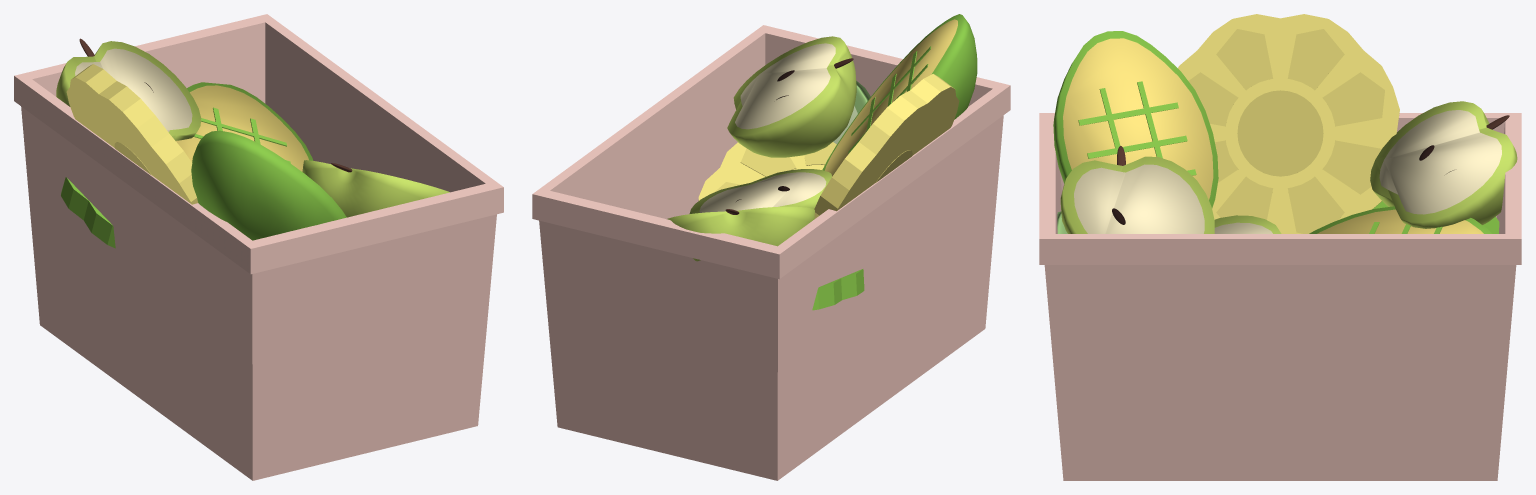
Rendered from fruitbox3.fbx.
The picture shows the model from 3 angles, left to right: view 1: azimuth 30°, elevation 25°; view 2: azimuth 150°, elevation 25°; view 3: azimuth 270°, elevation 25°; orthographic projection. The views are drawn at different scales.
Parts seen in each view (by area): view 1: Cube, Cube.001, Sphere.032, Cylinder.002, Sphere.109, Sphere.002, Sphere.007, Sphere.004, Cylinder.014, Cube.028, Sphere.001; view 2: Cube, Cube.001, Cylinder.002, Sphere.002, Sphere.003, Sphere.004, Sphere.033, Sphere.015, Sphere.032, Cylinder.009, Cylinder.010, Cylinder.014 (+2 smaller); view 3: Cube, Cube.001, Cylinder.002, Cylinder.003, Sphere.033, Sphere.007, Sphere.003, Cylinder.004, Sphere.004, Sphere.032, Sphere.002, Cube.030 (+4 smaller).
Boxes of the visible parts, x1,y1,x2,y2 form: Cube: (21,24,496,480); Cube.001: (14,14,503,274); Sphere.032: (191,130,346,240); Cylinder.002: (66,64,197,204); Sphere.109: (176,85,308,171); Sphere.002: (302,160,449,217); Sphere.007: (75,48,192,131); Sphere.004: (56,41,201,140); Cylinder.014: (61,177,115,248); Cube.028: (193,107,290,163); Sphere.001: (187,82,313,160); Cube: (539,34,1003,480); Cube.001: (532,25,1010,279); Cylinder.002: (814,74,959,219); Sphere.002: (727,36,856,157); Sphere.003: (735,43,835,129); Sphere.004: (667,206,814,261); Sphere.033: (824,19,957,176); Sphere.015: (699,172,826,212); Sphere.032: (822,14,977,170); Cylinder.009: (698,142,824,200); Cylinder.010: (714,142,836,192); Cylinder.014: (812,269,864,310); Cube: (1044,119,1516,480); Cube.001: (1039,113,1521,264); Cylinder.002: (1178,14,1399,233); Cylinder.003: (1188,29,1384,233); Sphere.033: (1063,38,1213,199); Sphere.007: (1379,110,1501,214); Sphere.003: (1074,164,1204,233); Cylinder.004: (1237,90,1323,176); Sphere.004: (1370,101,1517,228); Sphere.032: (1053,31,1218,208); Sphere.002: (1060,156,1214,233); Cube.030: (1078,81,1196,175).
Bounding box in the file's own units: 233 × 257 × 332.
